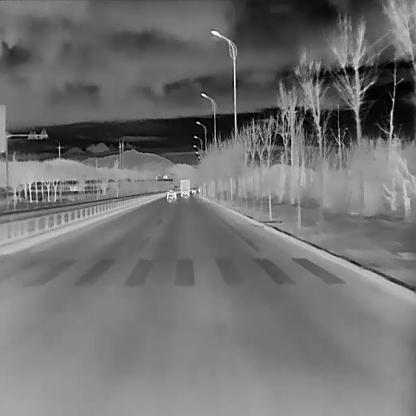car: (179, 179, 190, 195), (166, 187, 176, 199), (191, 187, 196, 193)
